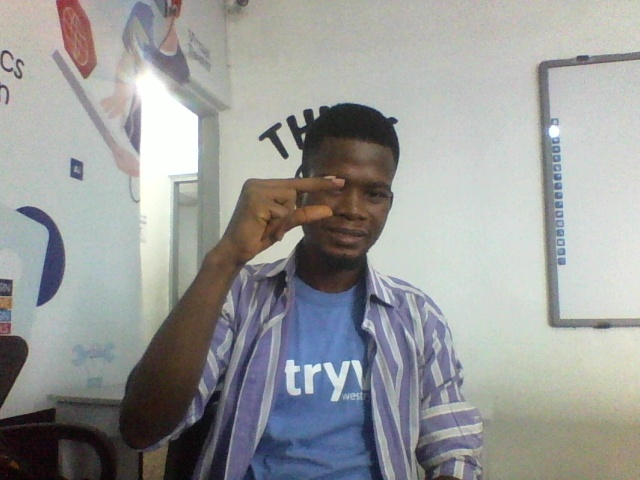no: (208, 172, 347, 272)
